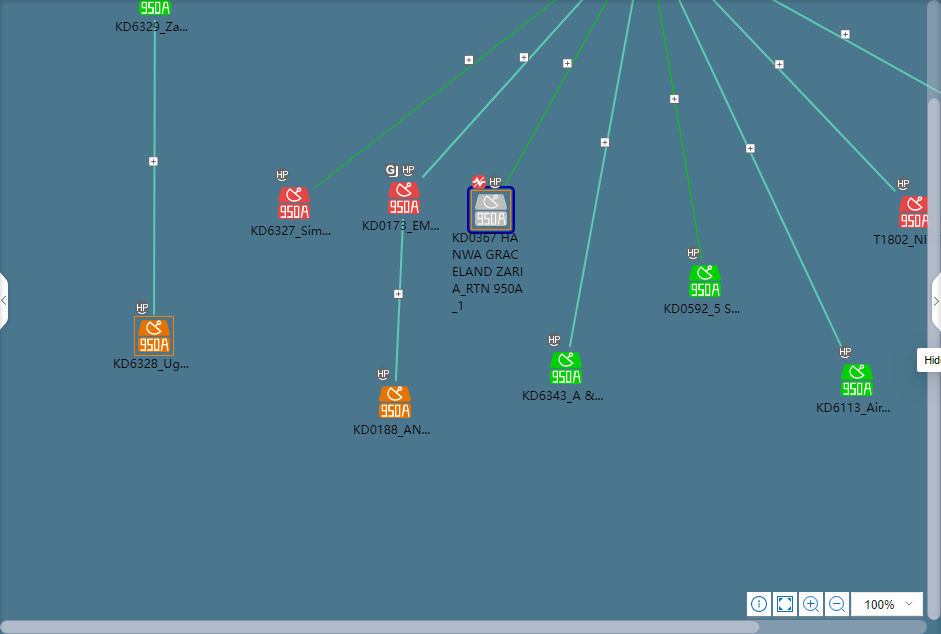Link_Blue: (677, 0, 849, 361), (711, 0, 897, 193), (421, 0, 583, 179), (568, 0, 634, 348), (771, 0, 941, 95), (394, 219, 406, 382), (153, 19, 157, 315)
Link_Green: (313, 0, 562, 191), (501, 0, 611, 185)
RTN_Gray: (472, 192, 509, 229)
RTN_Green: (549, 353, 581, 385), (688, 266, 721, 297), (841, 365, 872, 396), (139, 0, 170, 14)
RTN_Orange: (136, 318, 172, 356), (379, 387, 409, 418)
RTN_Red: (278, 187, 309, 219), (388, 182, 419, 214), (899, 197, 927, 228)
